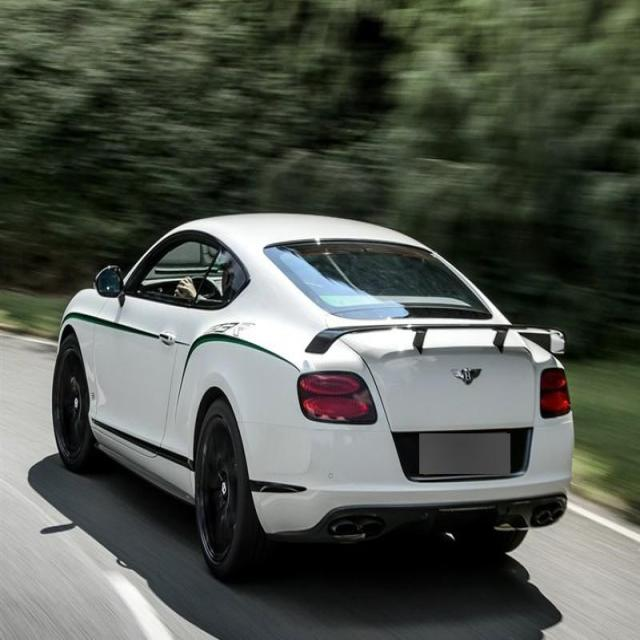back_glass: (265, 239, 493, 322)
back_left_side_light: (296, 368, 379, 428)
back_right_side_light: (538, 364, 572, 420)
front_left_side_door: (89, 228, 220, 463)
front_left_side_mirror: (92, 261, 130, 307)
rear_bumper: (239, 406, 576, 538)
wheel: (194, 398, 258, 582), (52, 335, 106, 475)
